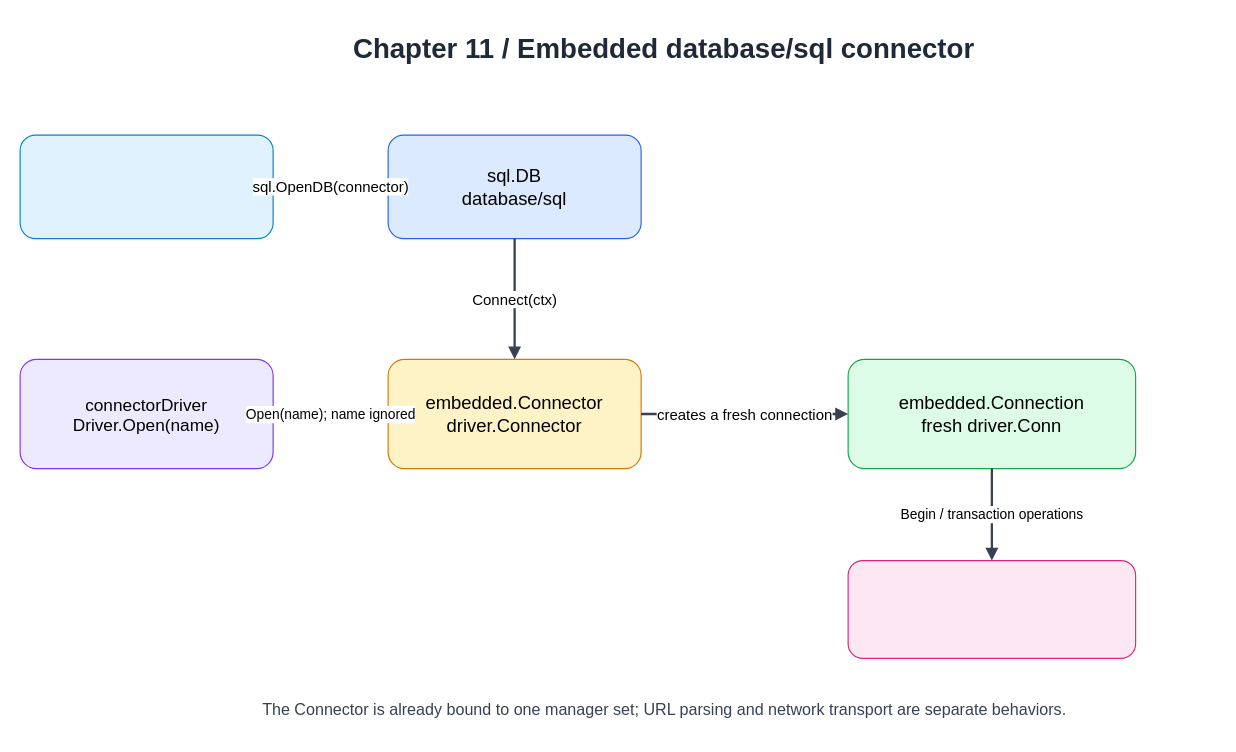
Some shapes in this 1236 by 752 pixel diagram are drawn without their labels. The shapes that lost their labels are listed below. From the top down, each one's centre as x and y in pixels, then its label:
At point 146,186: "Go application database/sql caller".
At point 991,608: "server.Managers caller-bound database".
